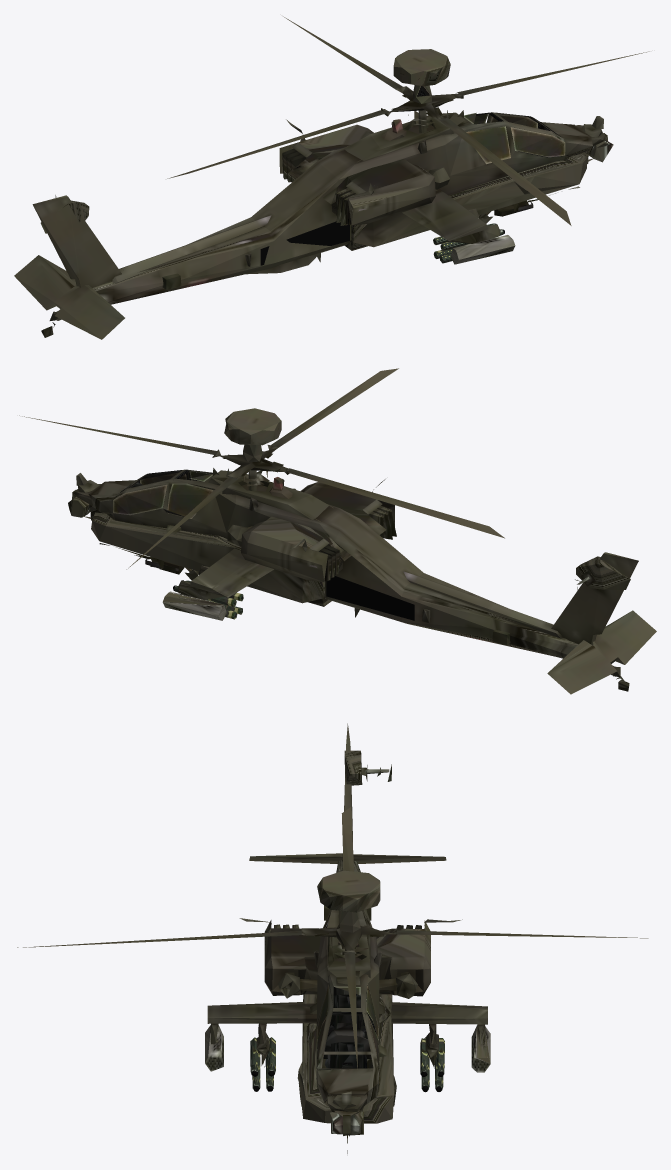
3 views of the same model, one above another, from view 1: azimuth 30°, elevation 25°; view 2: azimuth 150°, elevation 25°; view 3: azimuth 270°, elevation 25° (orthographic). The views are drawn at different scales.
Parts seen in each view (by area): view 1: Object_8, Object_7, Object_3, Object_2, Object_6; view 2: Object_8, Object_7, Object_3, Object_2, Object_6; view 3: Object_8, Object_7, Object_6, Object_3.
Boxes of the visible parts, x1=… form: Object_8: x1=14, y1=16, x2=649, y2=339; Object_7: x1=393, y1=49, x2=565, y2=264; Object_3: x1=358, y1=112, x2=565, y2=211; Object_2: x1=260, y1=221, x2=349, y2=265; Object_6: x1=433, y1=223, x2=503, y2=263; Object_8: x1=19, y1=368, x2=656, y2=694; Object_7: x1=109, y1=408, x2=281, y2=620; Object_3: x1=113, y1=471, x2=317, y2=567; Object_2: x1=326, y1=576, x2=414, y2=620; Object_6: x1=174, y1=580, x2=243, y2=619; Object_8: x1=17, y1=723, x2=648, y2=1153; Object_7: x1=205, y1=870, x2=490, y2=1078; Object_6: x1=250, y1=1037, x2=444, y2=1090; Object_3: x1=316, y1=984, x2=379, y2=1082.
Size of the model in its own units: 2.39 by 0.6724 by 1.88.
6 materials, 4 textured.
